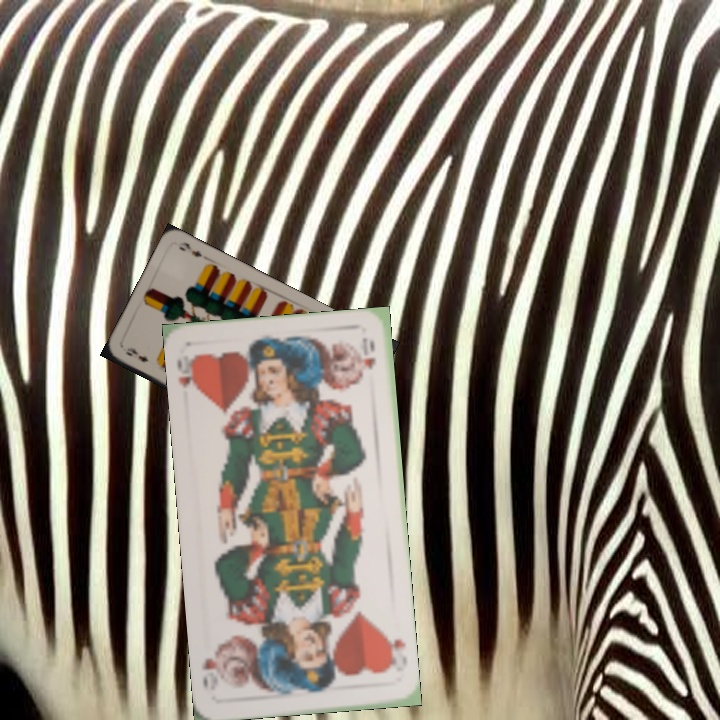E9: (121, 344, 151, 365)
HO: (380, 625, 408, 675), (173, 351, 201, 393)
